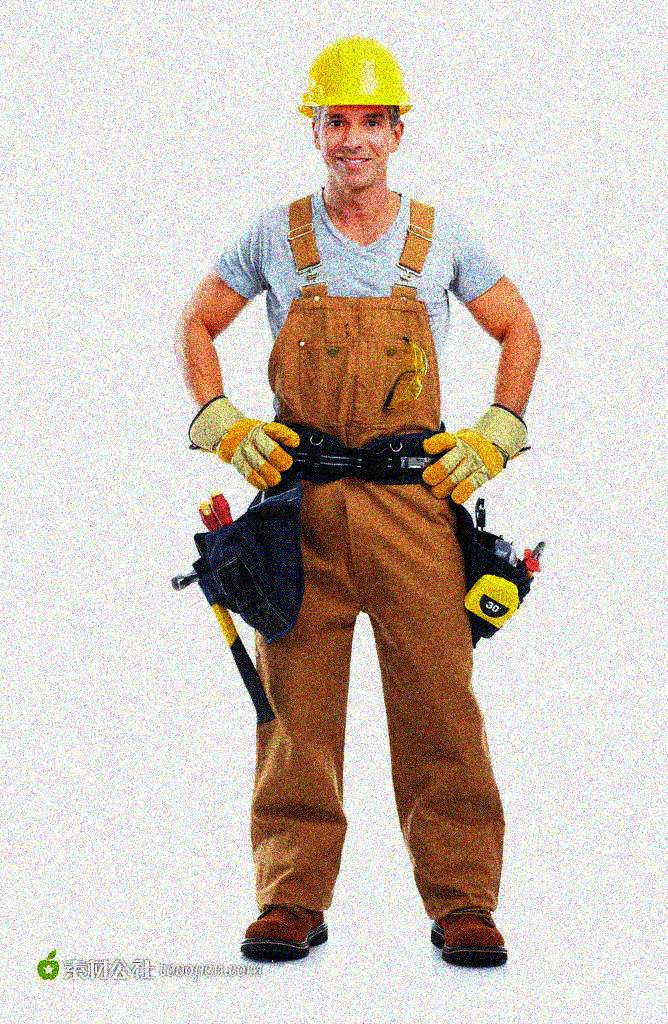helmet: (298, 34, 414, 185)
